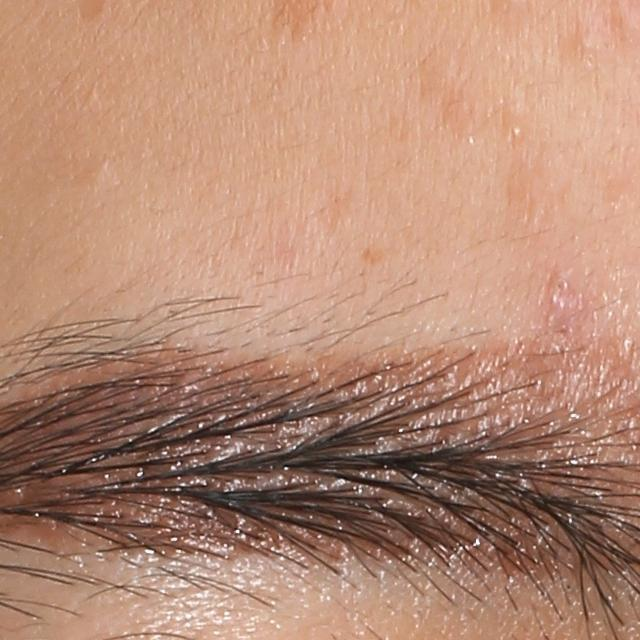comedo: (578, 30, 600, 50), (508, 124, 525, 143)
